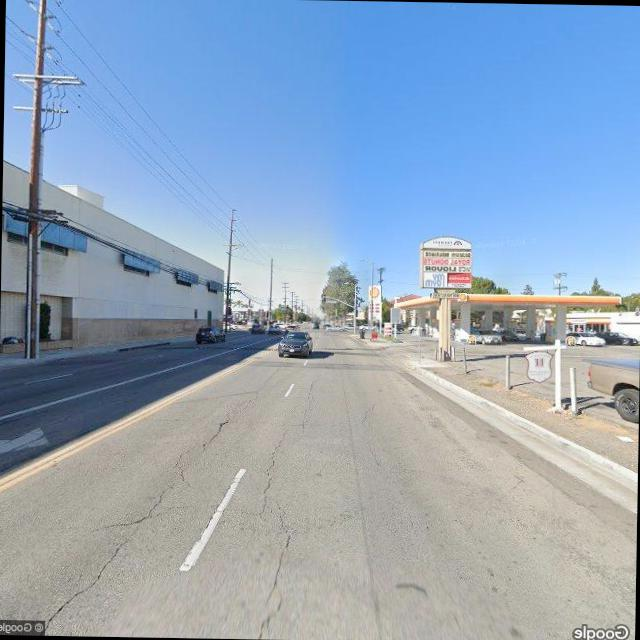pothole: (59, 394, 238, 622), (258, 427, 295, 546), (299, 377, 320, 433)
